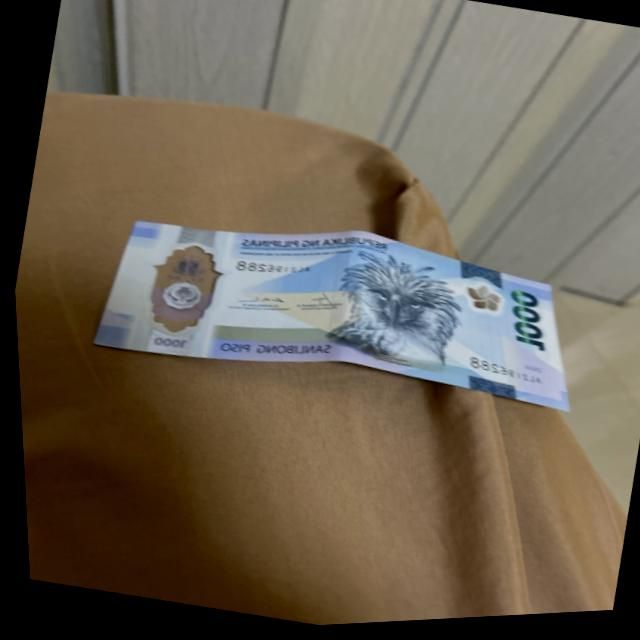clear_window: (129, 232, 228, 351)
eagle: (317, 254, 457, 377)
sampaguita: (454, 282, 503, 321)
